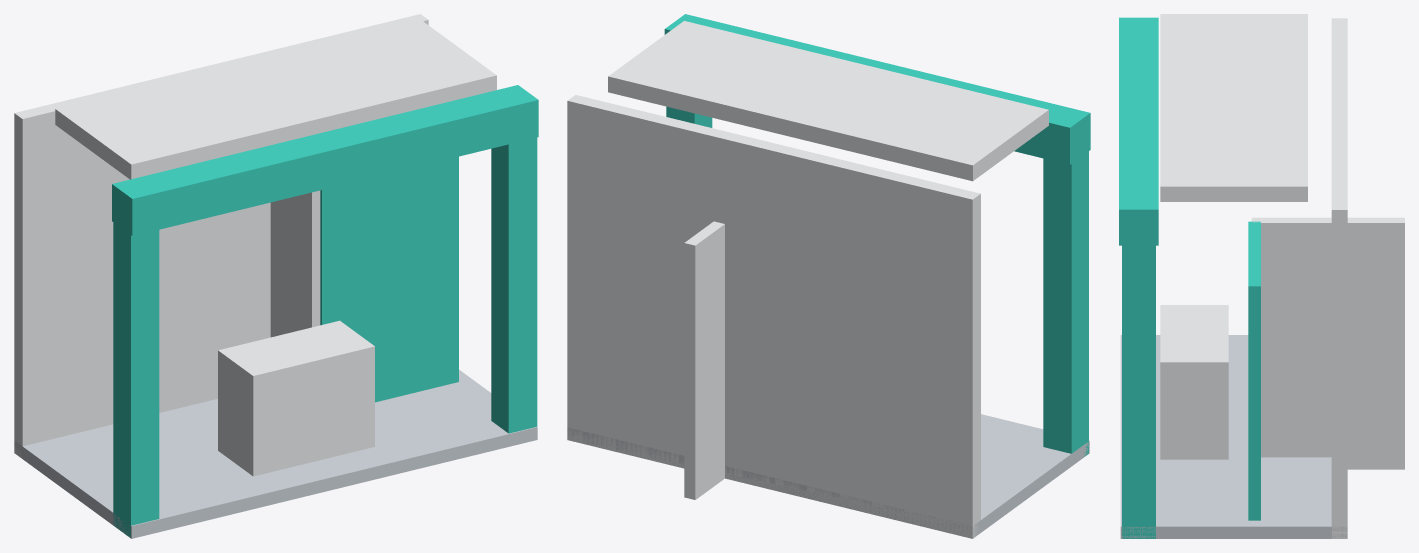
3 views of the same model, side by side, from view 1: azimuth 30°, elevation 25°; view 2: azimuth 150°, elevation 25°; view 3: azimuth 270°, elevation 25° (orthographic). The views are drawn at different scales.
Visible parts, largest first — view 1: Exhibition Booth Concept; view 2: Exhibition Booth Concept; view 3: Exhibition Booth Concept.
Boxes of the visible parts, bbox=[...] form: Exhibition Booth Concept: bbox=[14, 14, 538, 538]; Exhibition Booth Concept: bbox=[567, 14, 1090, 538]; Exhibition Booth Concept: bbox=[1119, 14, 1404, 538].
Size of the model in its own units: 4 by 3.34 by 2.52.
